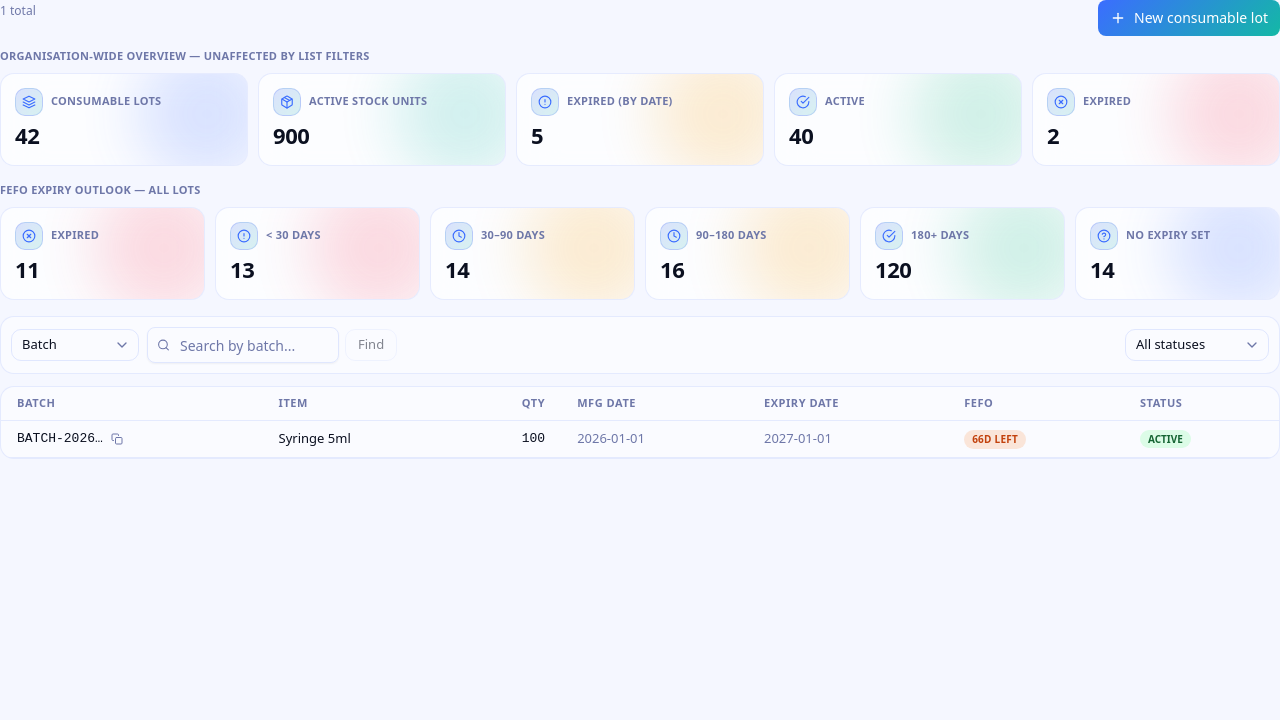
Scenario: InventoryConsumablesPanel — row click opens a detail drawer, Edit lives inside it › a manager clicks a row to open the drawer, then Edit inside it to open the edit modal
The width and height of the screenshot is (1280, 720).
Click the text "BATCH-2026…" at (60, 439), box [17, 429, 103, 448]
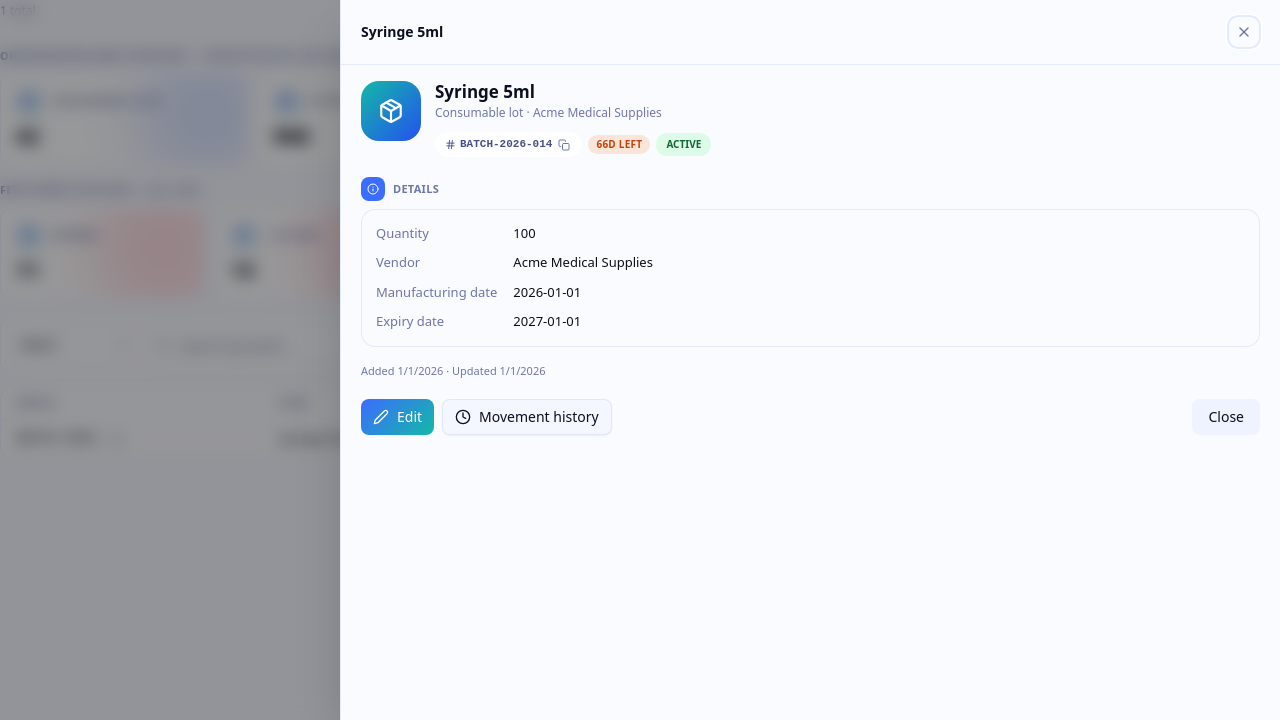
Click the button "Edit" at (398, 417), box [361, 399, 434, 435]
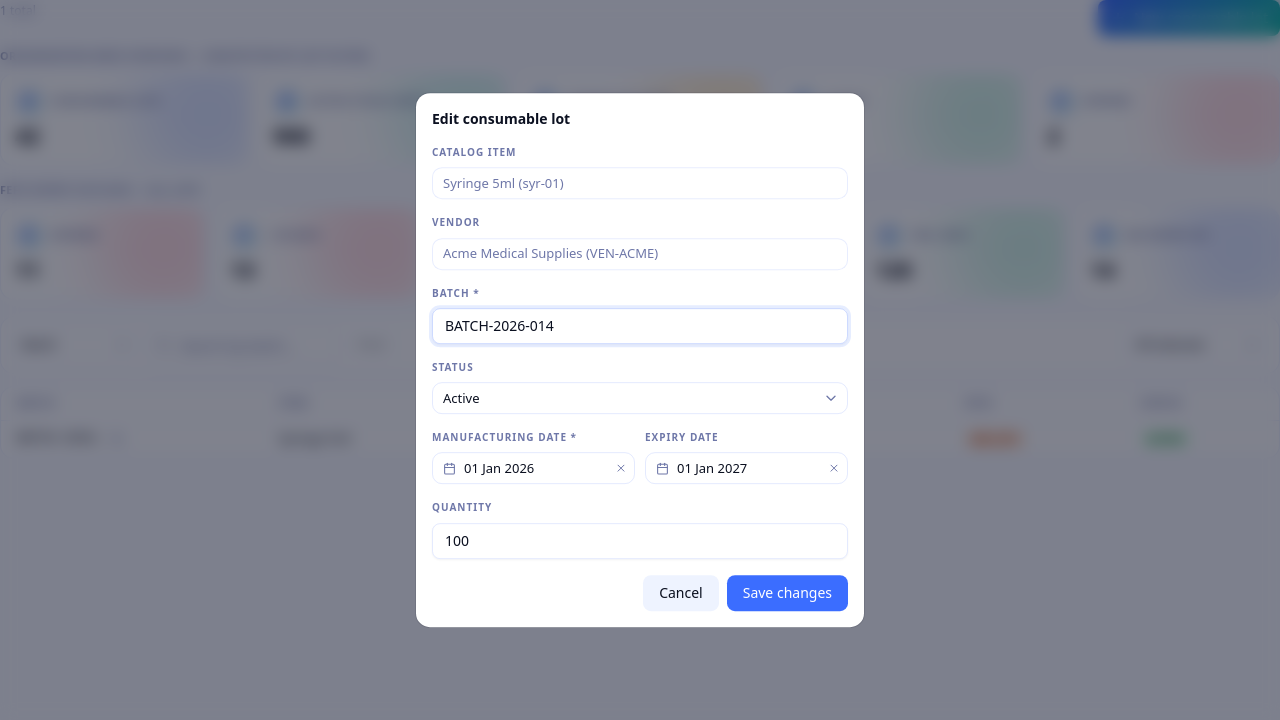
Now the heading "Edit consumable lot" is shown, box [432, 109, 570, 128]
